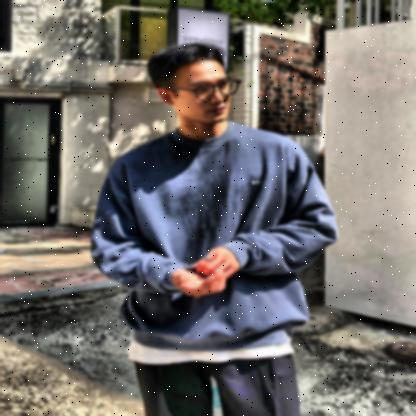short sleeve shirt: (126, 341, 296, 365)
sweater: (86, 121, 340, 351)
trousers: (129, 356, 302, 416)
